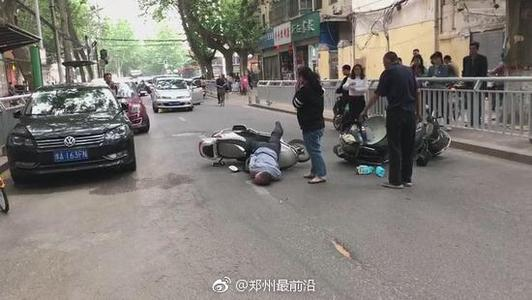10+: (93, 35, 525, 193)
down: (225, 112, 296, 190)
